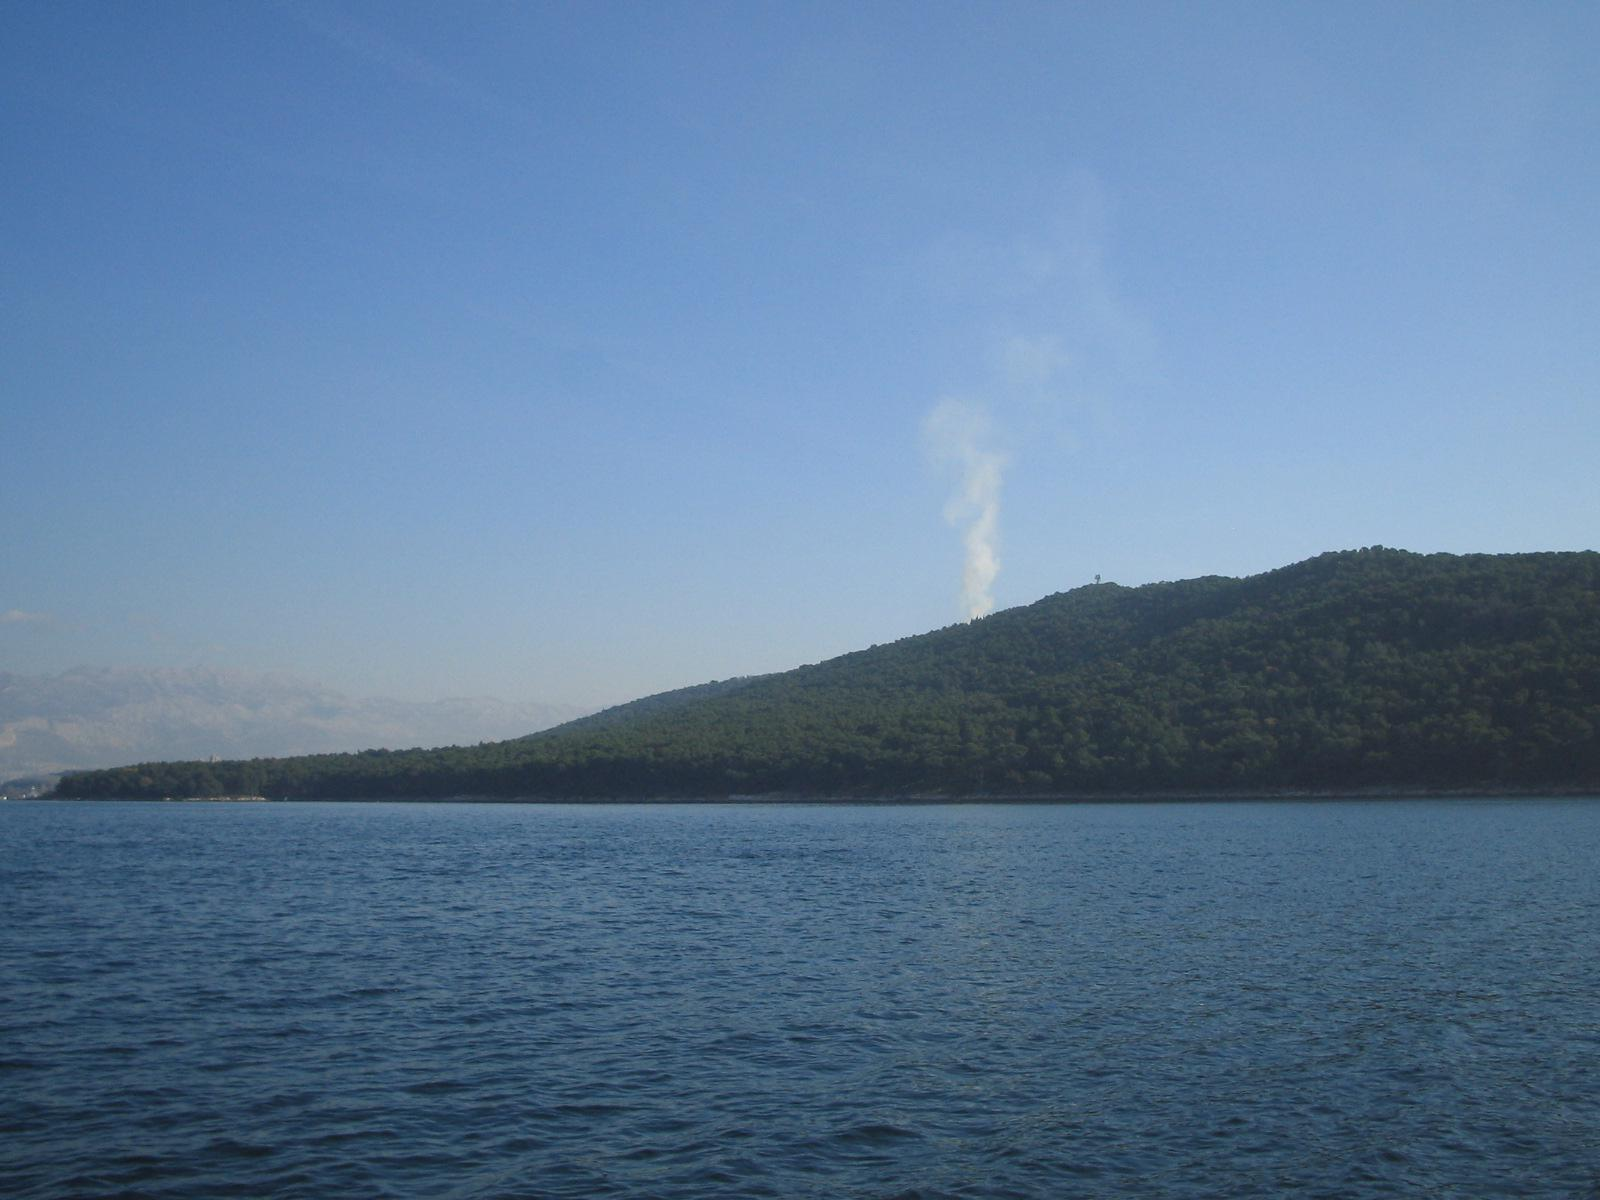Smoke: (901, 372, 1029, 633)
